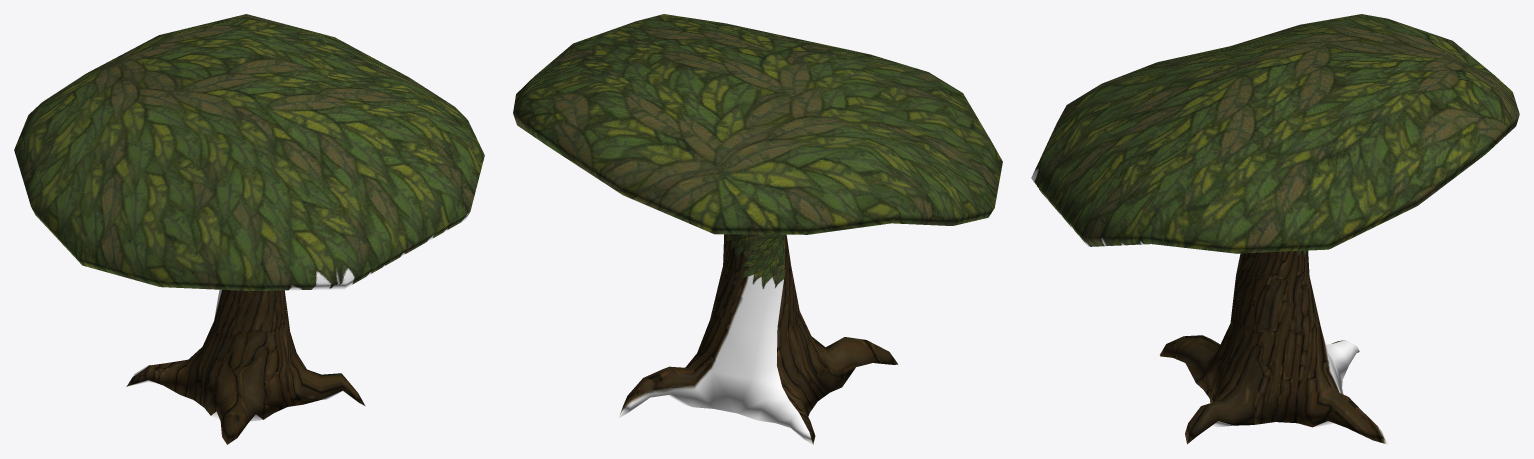
File: RootCaveTreeMotherShape.dae
3 views of the same model, side by side, from view 1: azimuth 30°, elevation 25°; view 2: azimuth 150°, elevation 25°; view 3: azimuth 270°, elevation 25° (orthographic). The views are drawn at different scales.
Parts seen in each view (by area): view 1: RootCaveTreeMother; view 2: RootCaveTreeMother; view 3: RootCaveTreeMother.
Boxes of the visible parts, <box> form: RootCaveTreeMother: <box>14,14,484,444</box>; RootCaveTreeMother: <box>513,14,1002,444</box>; RootCaveTreeMother: <box>1031,14,1519,444</box>.
Size of the model in its own units: 96.92 by 72.06 by 92.96.
